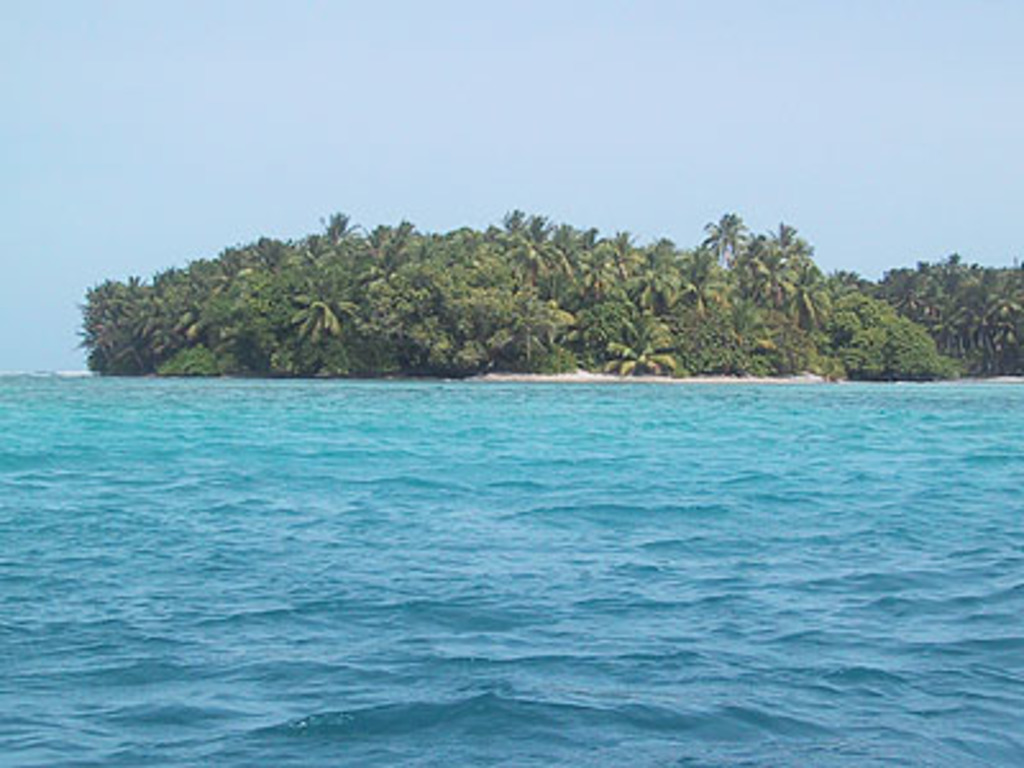Tree: (70, 206, 1023, 382)
